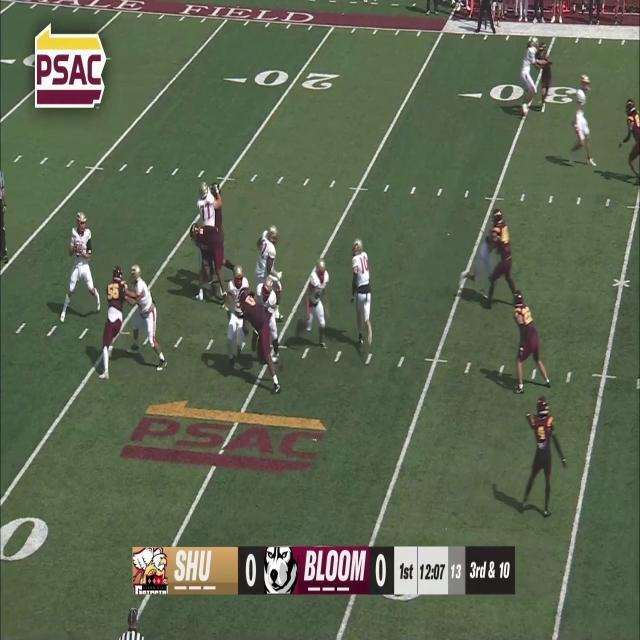football: (74, 241, 82, 257)
